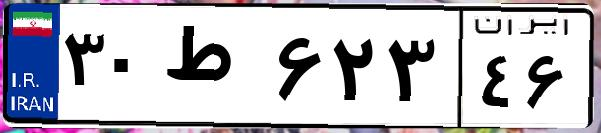0: (110, 28, 158, 98)
2: (330, 28, 385, 110)
3: (385, 28, 445, 110), (57, 26, 110, 100)
4: (475, 38, 525, 113)
6: (270, 28, 330, 110), (525, 38, 570, 115)
ط: (158, 20, 270, 120)
